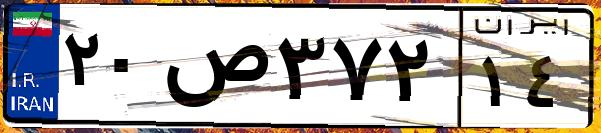0: (110, 28, 158, 98)
1: (475, 38, 525, 113)
2: (385, 28, 445, 110), (57, 26, 110, 100)
3: (270, 28, 330, 110)
4: (525, 38, 570, 115)
7: (330, 28, 385, 110)
ص: (158, 20, 270, 120)
